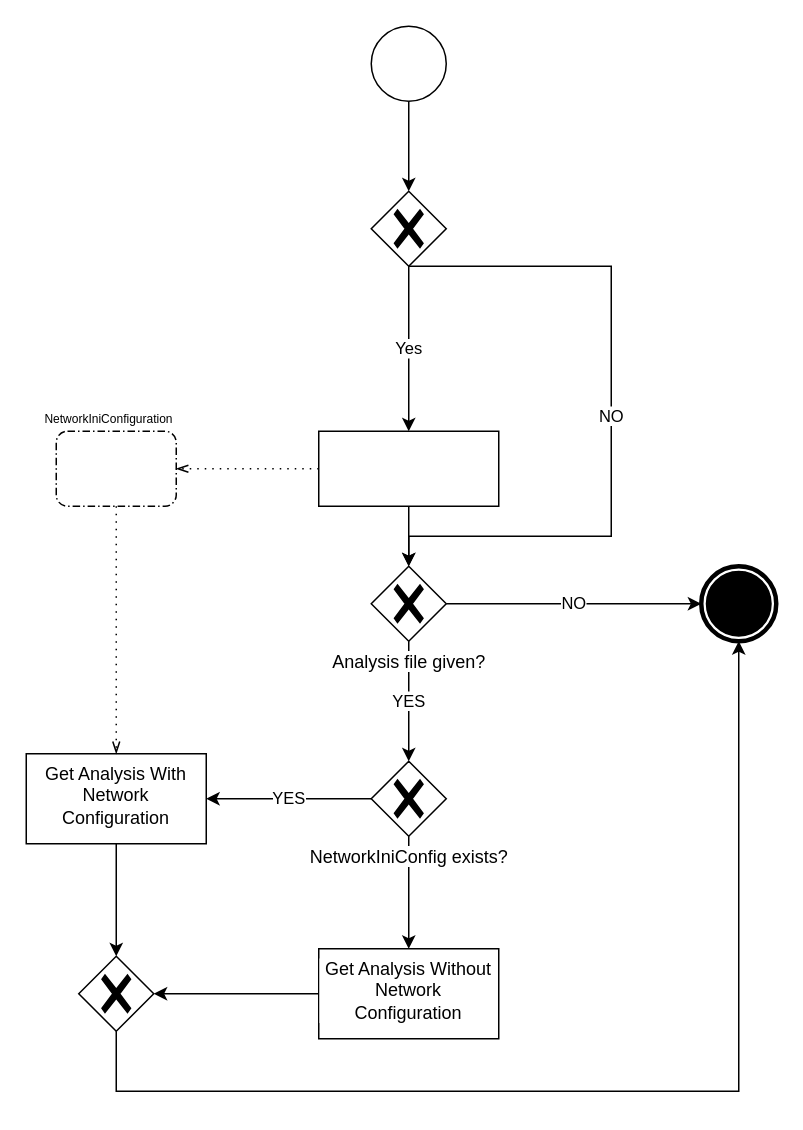
Some shapes in this 803 by 1130 pixel diagram are drawn without their labels. Here are the shapes that lost their labels. From the top down, the centre of each, then its label:
(408,228): Network file given?
(408,468): Get Network Ini Configuration
